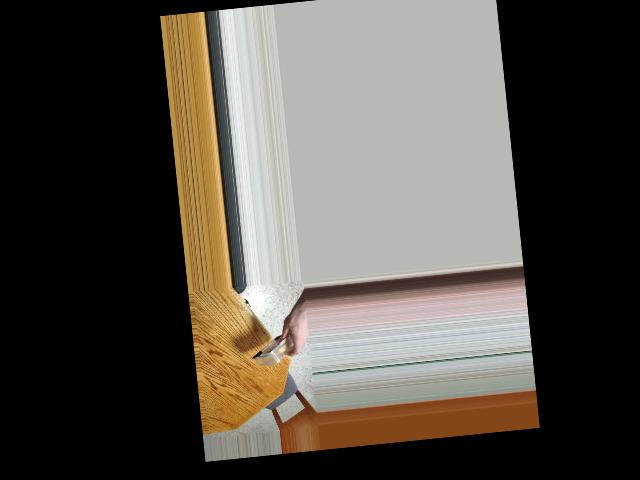cheese: (258, 316, 306, 378)
